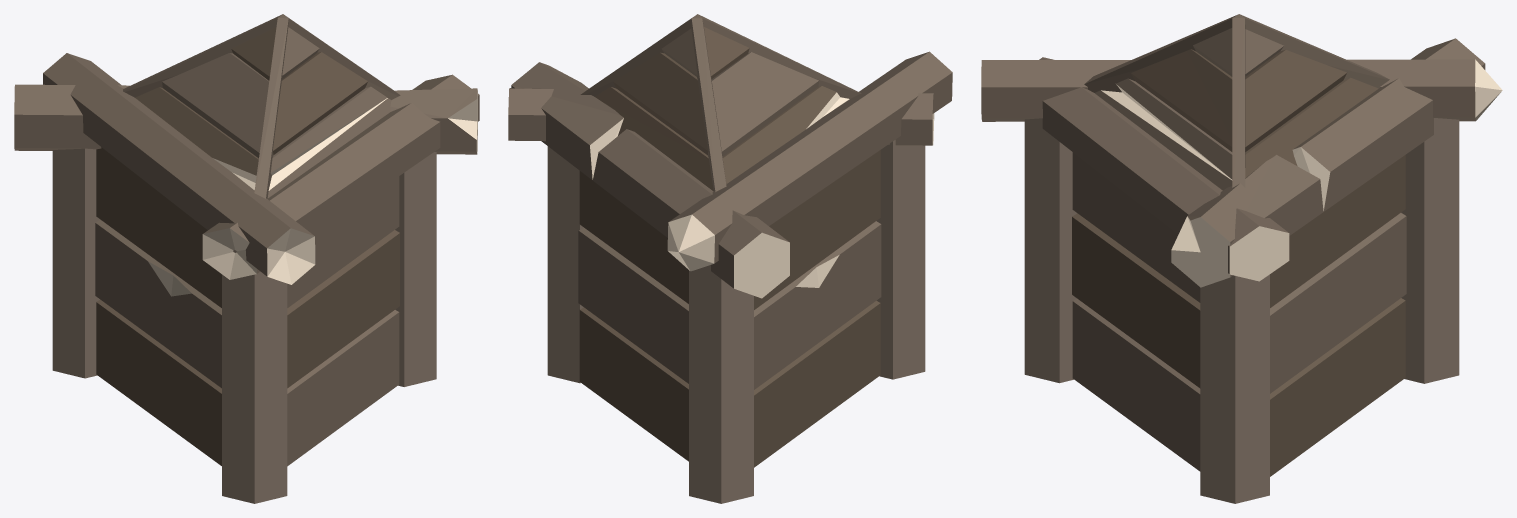
Rendered from _PROPS_UP_01.fbx.
The picture shows the model from 3 angles, left to right: view 1: azimuth 30°, elevation 25°; view 2: azimuth 150°, elevation 25°; view 3: azimuth 270°, elevation 25°; orthographic projection. The views are drawn at different scales.
Parts seen in each view (by area): view 1: PROPS_UP_01; view 2: PROPS_UP_01; view 3: PROPS_UP_01.
Boxes of the visible parts, x1,y1,x2,y2 form: PROPS_UP_01: (14,14,479,503); PROPS_UP_01: (508,14,952,503); PROPS_UP_01: (981,14,1502,503).
Bounding box in the file's own units: 499 × 490 × 566.
